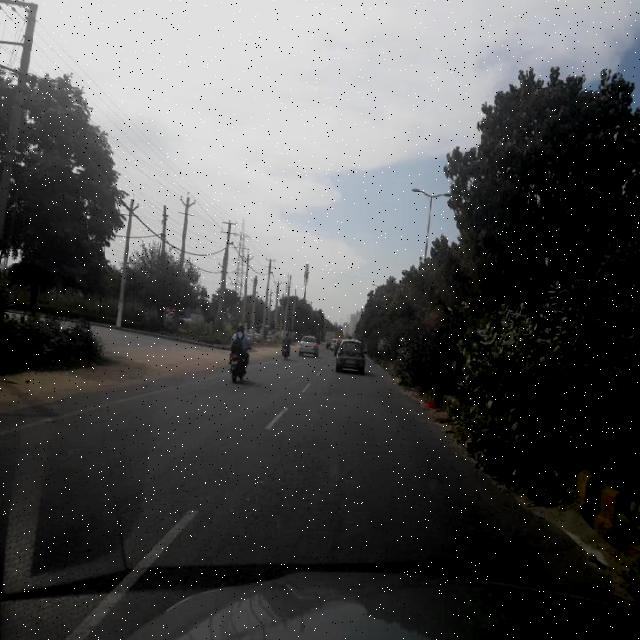D20: (9, 410, 505, 605)
